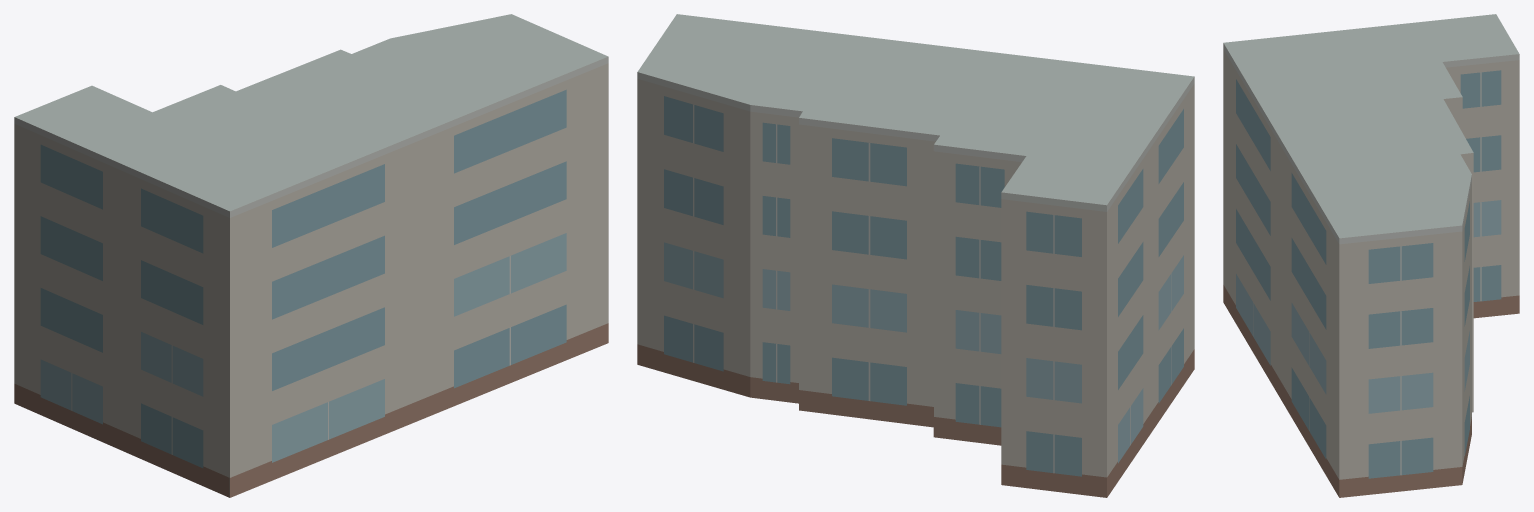
File: survey-upis-32582166.glb
3 renders of one model, left to right at view 1: azimuth 30°, elevation 25°; view 2: azimuth 150°, elevation 25°; view 3: azimuth 270°, elevation 25°, orthographic. The views are drawn at different scales.
Visible parts, largest first — view 1: survey-upis-32582166.tmp; view 2: survey-upis-32582166.tmp; view 3: survey-upis-32582166.tmp.
Boxes of the visible parts, x1,y1,x2,y2 form: survey-upis-32582166.tmp: (14,14,608,497); survey-upis-32582166.tmp: (637,14,1194,497); survey-upis-32582166.tmp: (1223,14,1519,497).
Bounding box in the file's own units: 19.67 × 10.6 × 10.98.
